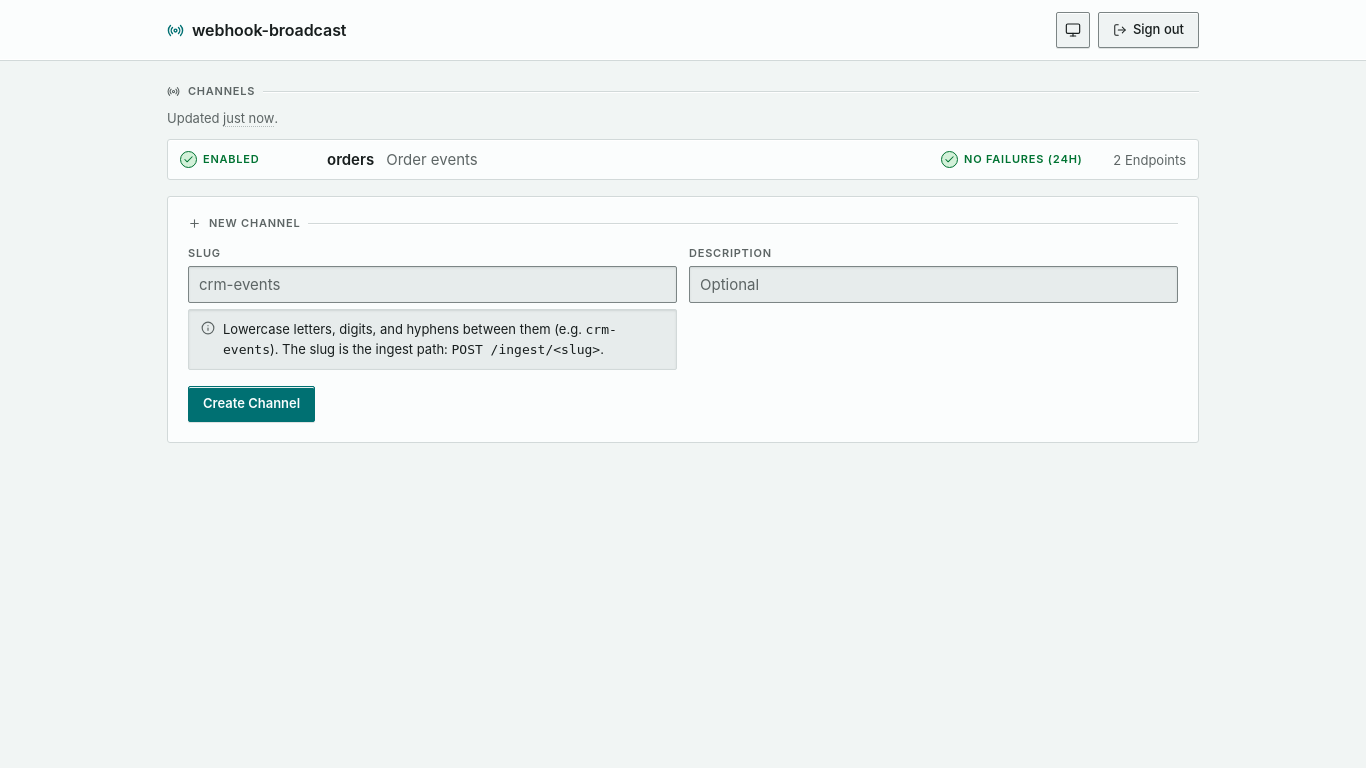
Scenario: dashboard smoke flow › soft-deletes a Channel from Settings and returns to a directory without it
Click the text "orders".
click(351, 160)  # box x1=327 y1=150 x2=374 y2=169
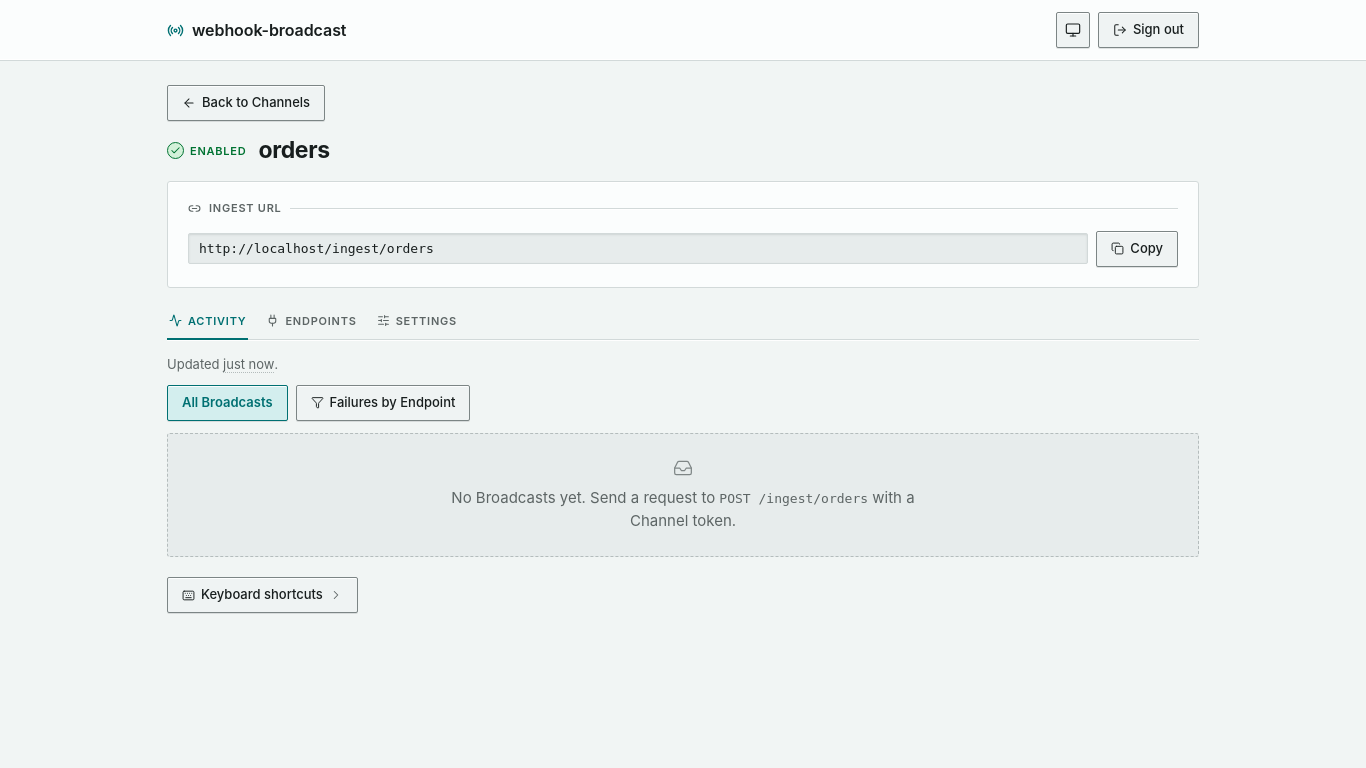
Click the link "Settings".
click(417, 321)  # box x1=377 y1=314 x2=457 y2=328
(page scrolled)
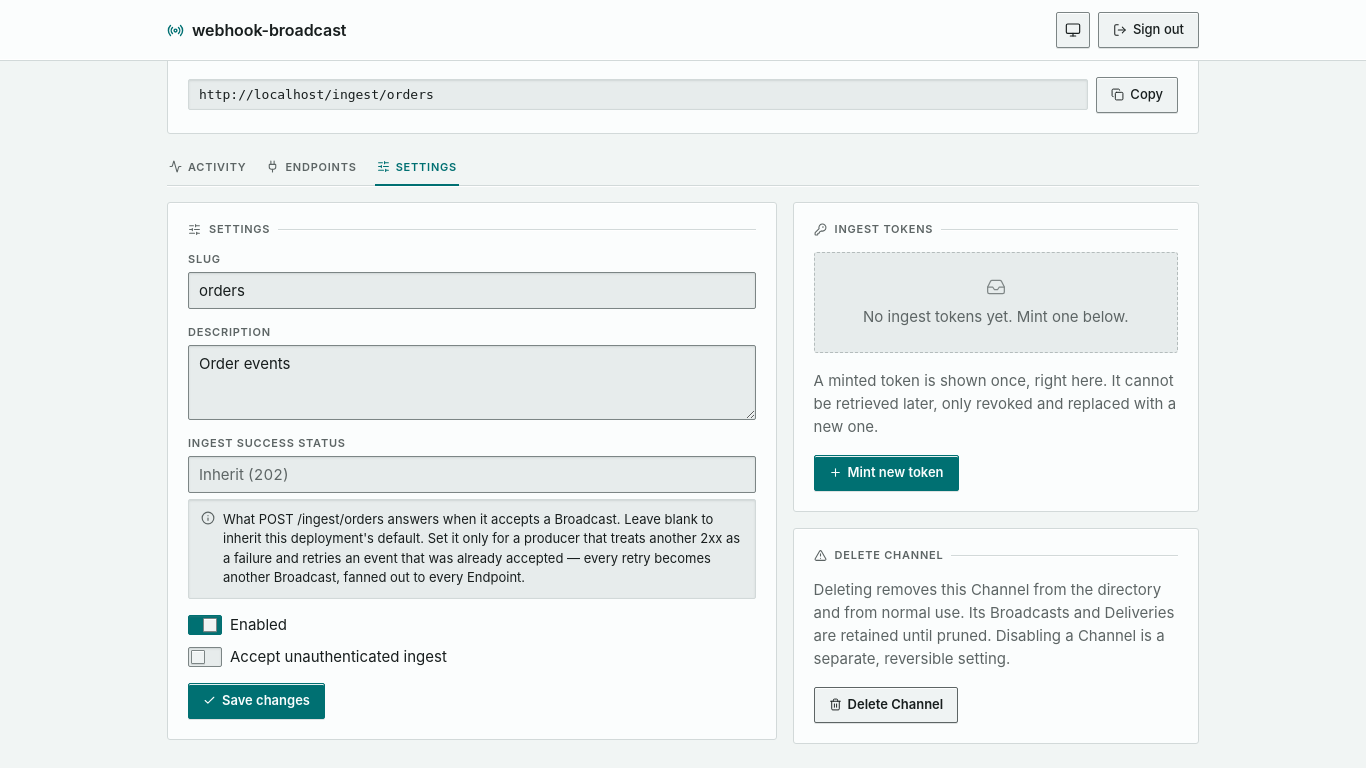
Click the button "Delete Channel".
click(886, 705)  # box x1=814 y1=687 x2=958 y2=723
(page scrolled)
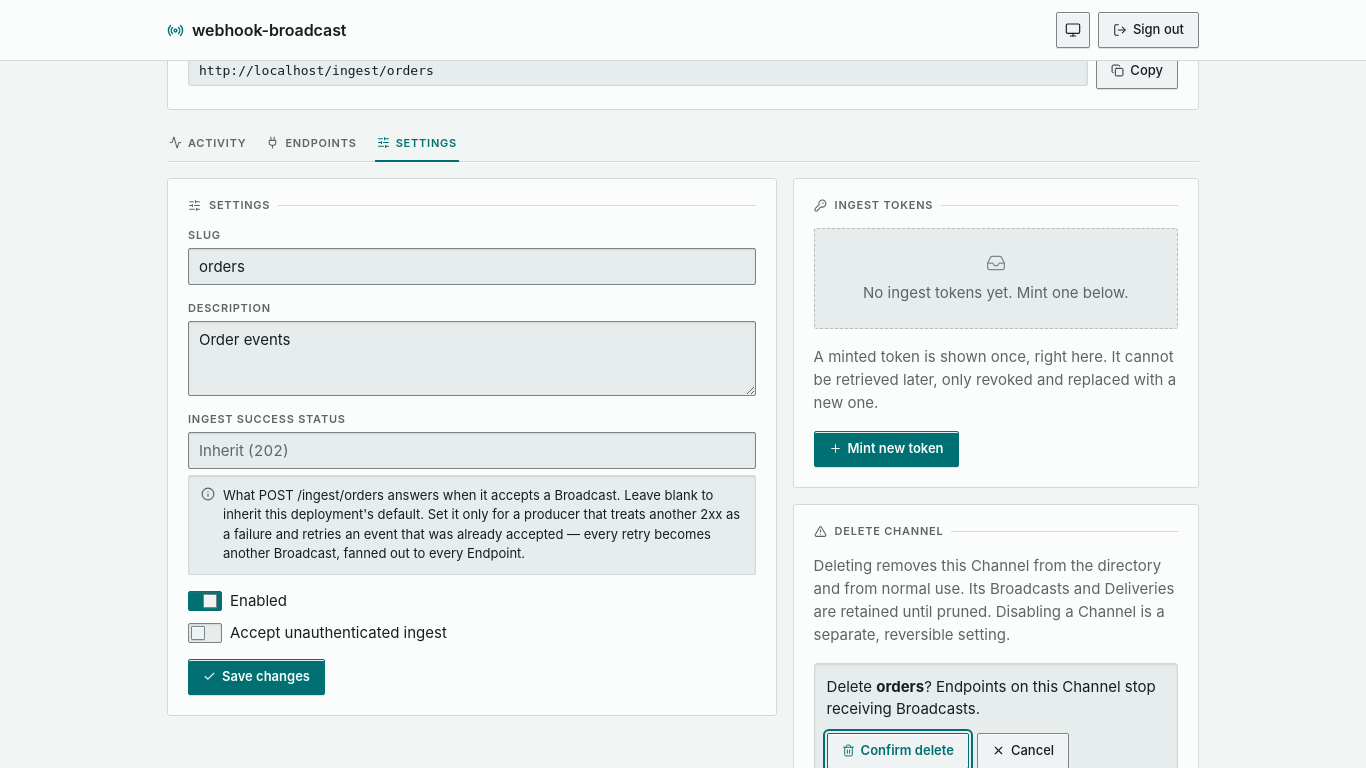
Click the button "Confirm delete".
click(898, 751)  # box x1=827 y1=733 x2=969 y2=767
(page scrolled)
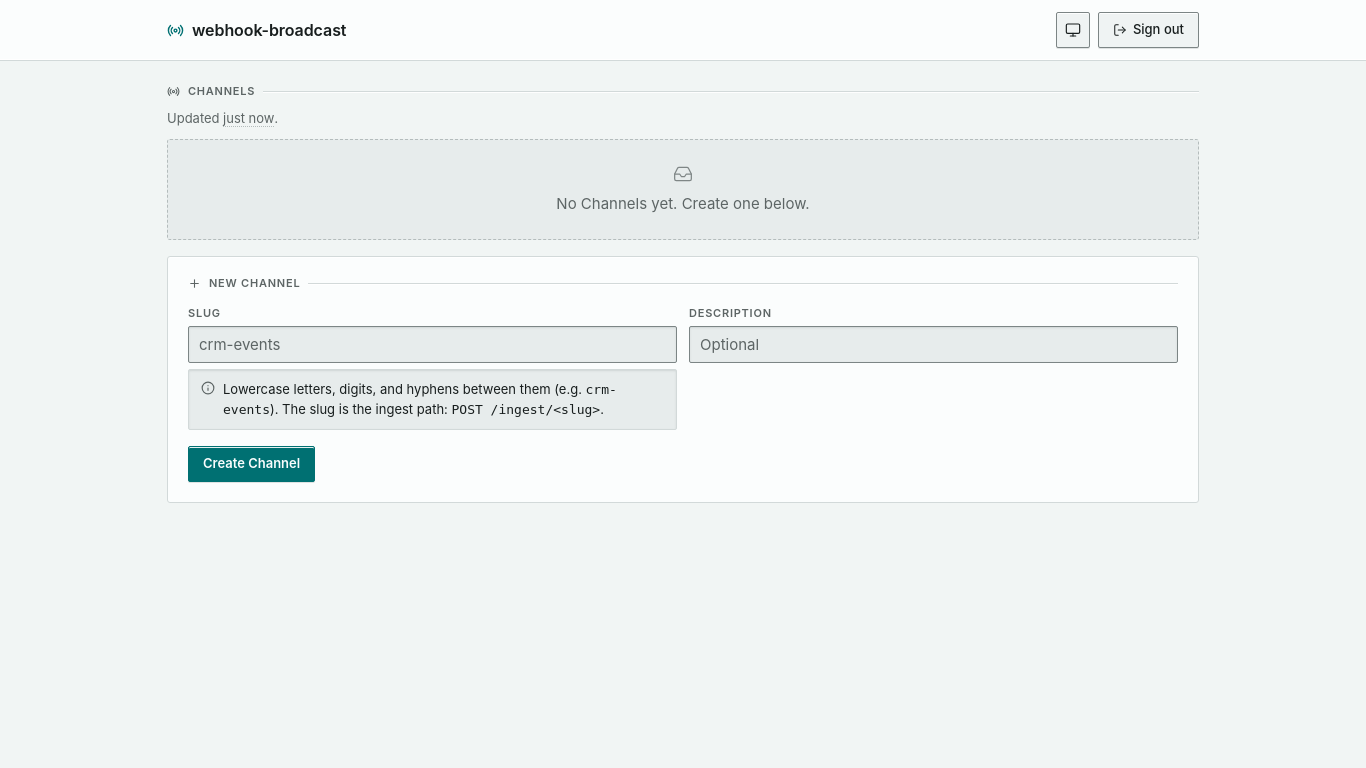
Expected: the heading "New Channel" is shown, x1=188 y1=276 x2=300 y2=290
Expected: the text "orders" is gone
